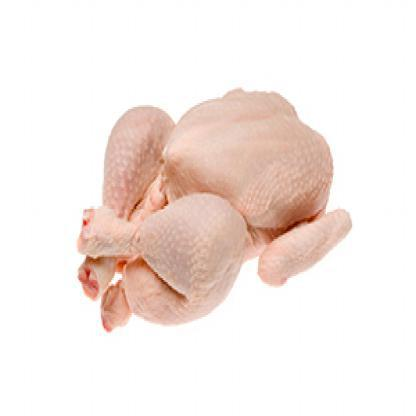chicken: (83, 76, 340, 338)
